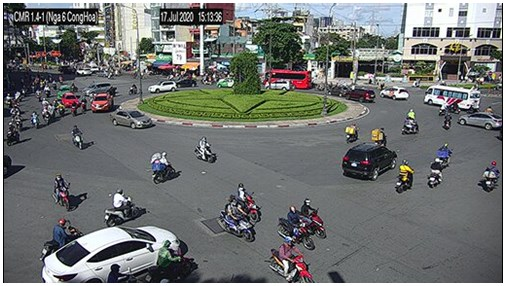xe_hoi: (43, 225, 181, 282), (342, 145, 396, 180), (110, 109, 153, 131), (458, 113, 501, 131), (379, 87, 409, 101), (345, 89, 376, 102), (80, 81, 112, 93), (92, 93, 112, 112), (147, 81, 175, 92), (265, 80, 295, 90), (61, 91, 78, 107), (217, 76, 239, 88), (327, 86, 347, 97), (57, 87, 75, 98), (176, 79, 196, 88), (76, 66, 91, 77)
xe_may: (270, 236, 315, 283), (148, 240, 191, 283), (42, 220, 83, 261), (217, 198, 255, 242), (278, 206, 315, 250), (295, 197, 326, 239), (104, 190, 140, 226), (230, 183, 259, 221), (152, 151, 178, 187), (51, 174, 71, 212), (396, 159, 414, 194), (482, 161, 501, 193), (108, 264, 141, 282), (195, 136, 216, 163), (427, 158, 443, 189), (436, 143, 454, 170), (71, 122, 85, 151), (402, 116, 420, 136), (370, 126, 387, 147), (345, 123, 360, 145), (7, 123, 21, 146), (447, 100, 460, 114), (32, 110, 41, 130), (438, 101, 448, 117), (10, 104, 22, 117), (443, 112, 451, 131), (81, 95, 88, 115), (127, 84, 139, 95), (43, 84, 52, 98), (406, 108, 417, 119), (44, 110, 51, 126), (71, 101, 78, 117), (58, 103, 65, 118), (35, 88, 42, 103)
